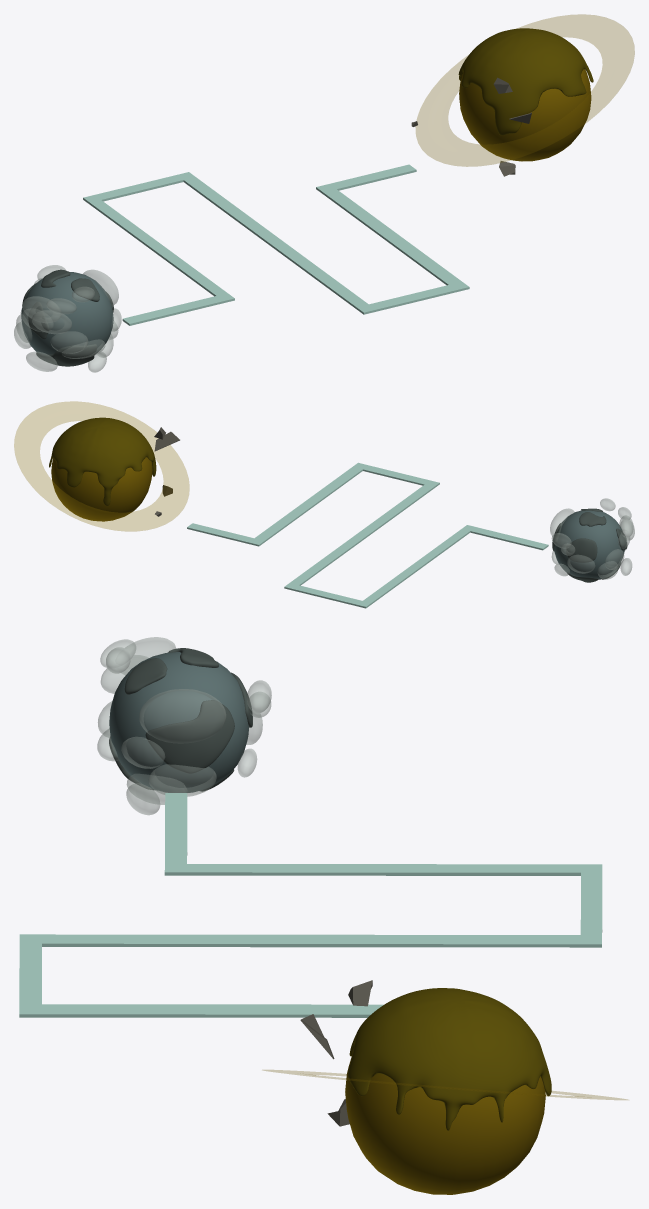
The model's file is Path02_Complete.fbx.
The picture shows the model from 3 angles, top to bottom: view 1: azimuth 30°, elevation 25°; view 2: azimuth 150°, elevation 25°; view 3: azimuth 270°, elevation 25°; orthographic projection. The views are drawn at different scales.
Visible parts, largest first — view 1: Path_Level_02, Saturn_Ring, Saturn_Radioactive, Saturn_Ball, Earth_water, Earth_Pollutats, Cloud, pSphere2, pSphere4, pSphere5, pSphere12; view 2: Saturn_Ring, Path_Level_02, Saturn_Radioactive, Saturn_Ball, Earth_water, Earth_Pollutats, pSphere8, pSphere12; view 3: Path_Level_02, Saturn_Radioactive, Saturn_Ball, Earth_water, Earth_Pollutats, pSphere12, pSphere9, pSphere10, Saturn_Ring, pSphere11, Cloud, pSphere14.
Boxes of the visible parts, x1,y1,x2,y2 form: Path_Level_02: (83,164,469,325); Saturn_Ring: (415,14,634,166); Saturn_Radioactive: (458,28,593,135); Saturn_Ball: (459,69,591,161); Earth_water: (21,272,113,354); Earth_Pollutats: (22,269,113,366); Cloud: (22,296,60,322); pSphere2: (32,310,71,334); pSphere4: (50,331,88,353); pSphere5: (62,339,105,358); pSphere12: (83,269,118,304); Saturn_Ring: (14,401,189,531); Path_Level_02: (187,462,548,608); Saturn_Radioactive: (49,417,156,505); Saturn_Ball: (51,457,152,521); Earth_water: (554,510,624,579); Earth_Pollutats: (552,508,626,582); pSphere8: (567,555,595,573); pSphere12: (550,508,574,536); Path_Level_02: (19,793,602,1017); Saturn_Radioactive: (348,988,551,1130); Saturn_Ball: (345,1051,545,1194); Earth_water: (109,652,248,792); Earth_Pollutats: (109,648,252,791); pSphere12: (139,689,226,743); pSphere9: (148,764,216,796); pSphere10: (126,774,187,804); Saturn_Ring: (263,1070,627,1099); pSphere11: (121,737,164,768); Cloud: (121,637,175,674); pSphere14: (126,783,160,815).
Size of the model in its own units: 104 by 19.63 by 51.63.
